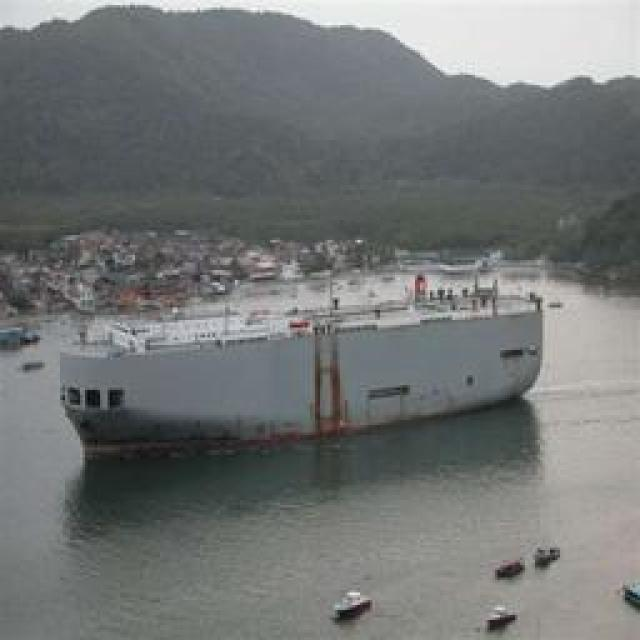ship: (69, 288, 546, 460)
